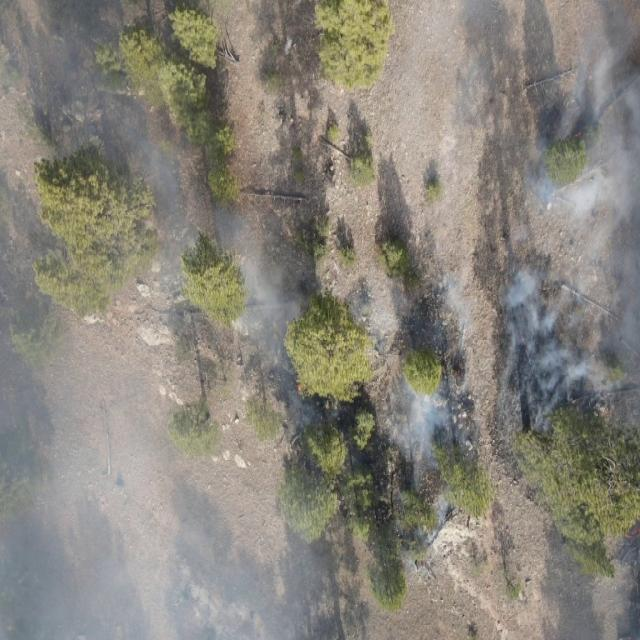fire: (624, 521, 640, 540), (573, 128, 586, 140), (294, 384, 304, 395)
smoke: (0, 207, 305, 640), (498, 0, 640, 446), (344, 254, 482, 582), (0, 0, 218, 206)
